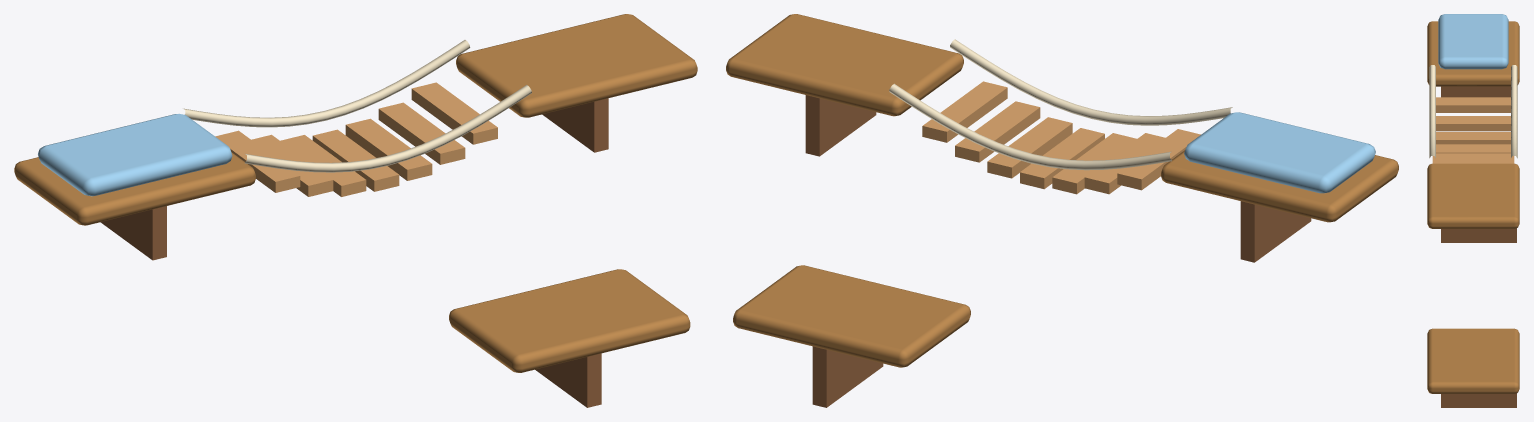
File: catsteps-bridge.glb
3 renders of one model, left to right at view 1: azimuth 30°, elevation 25°; view 2: azimuth 150°, elevation 25°; view 3: azimuth 270°, elevation 25°, orthographic. The views are drawn at different scales.
Bounding box in the file's own units: 1.74 × 0.935 × 0.34.
